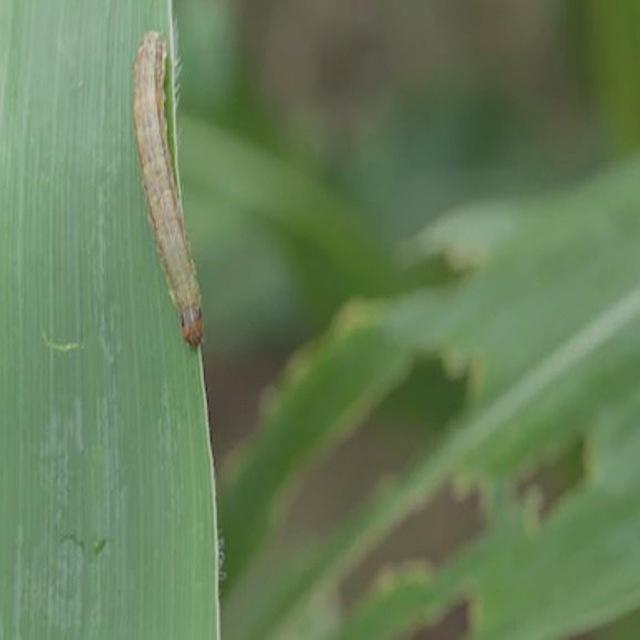gusano_cogollero: (133, 27, 210, 350)
